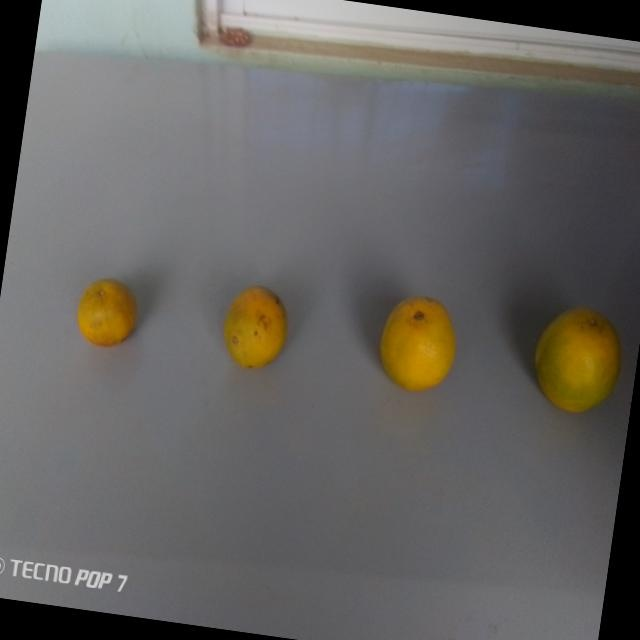agrume: (518, 288, 629, 427), (371, 280, 468, 400), (216, 275, 297, 384), (70, 263, 146, 357)
